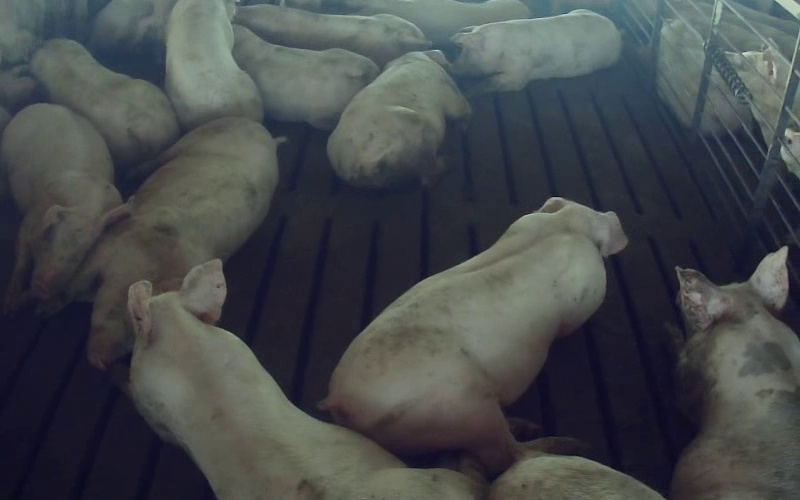pig: (128, 260, 485, 499), (75, 117, 276, 367), (666, 247, 799, 499), (2, 104, 121, 312), (327, 51, 470, 188), (30, 40, 178, 165), (233, 24, 379, 129), (451, 10, 620, 92), (165, 0, 262, 130), (234, 4, 430, 65)
